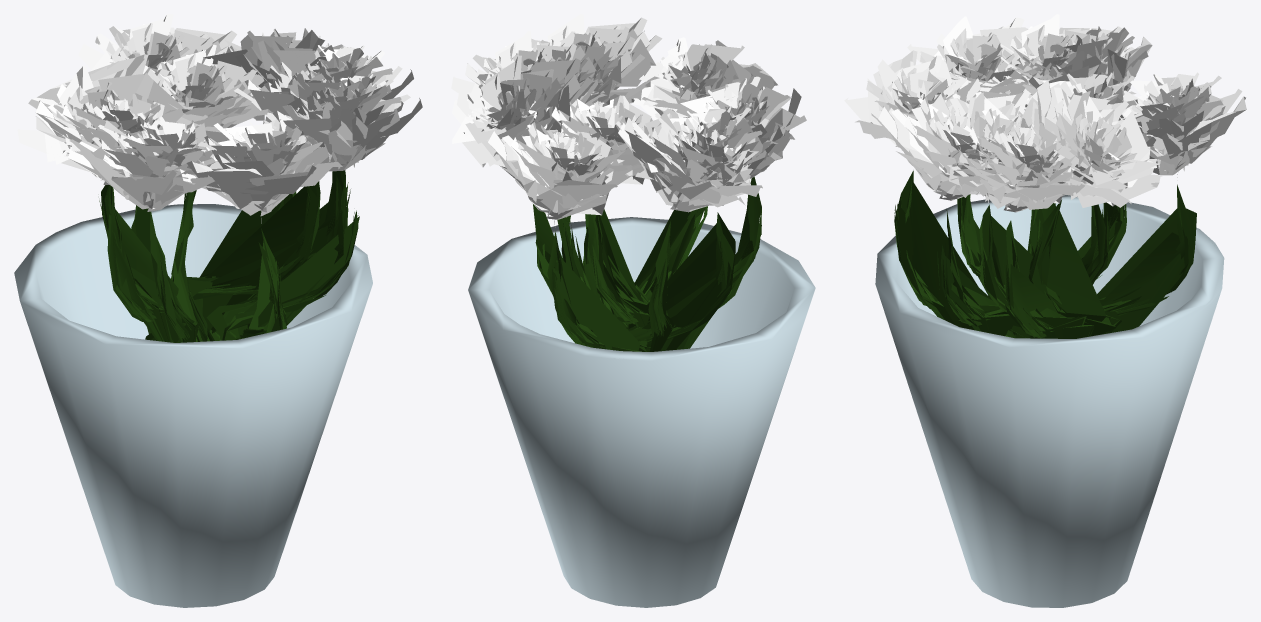
The model's file is pot-fleur.glb.
3 views of the same model, side by side, from view 1: azimuth 30°, elevation 25°; view 2: azimuth 150°, elevation 25°; view 3: azimuth 270°, elevation 25° (orthographic). The views are drawn at different scales.
Parts seen in each view (by area): view 1: Pot, Fleur.001; view 2: Pot, Fleur.001; view 3: Fleur.001, Pot.
Boxes of the visible parts, x1,y1,x2,y2 form: Pot: [14, 204, 372, 607]; Fleur.001: [17, 14, 422, 342]; Pot: [468, 217, 815, 607]; Fleur.001: [451, 14, 806, 351]; Fleur.001: [844, 14, 1246, 338]; Pot: [875, 195, 1224, 607].
Bounding box in the file's own units: 2.51 × 3.48 × 2.4.
